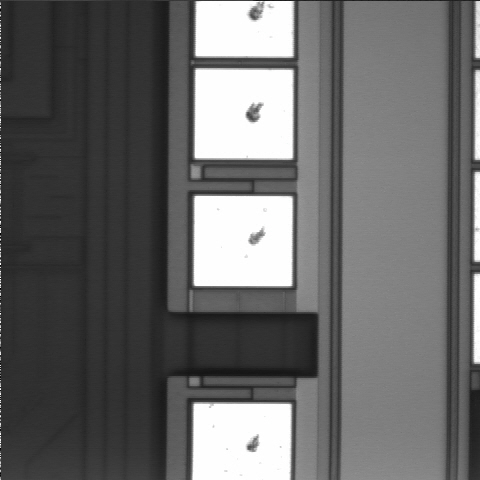pad: (194, 196, 293, 286), (195, 69, 293, 159)
